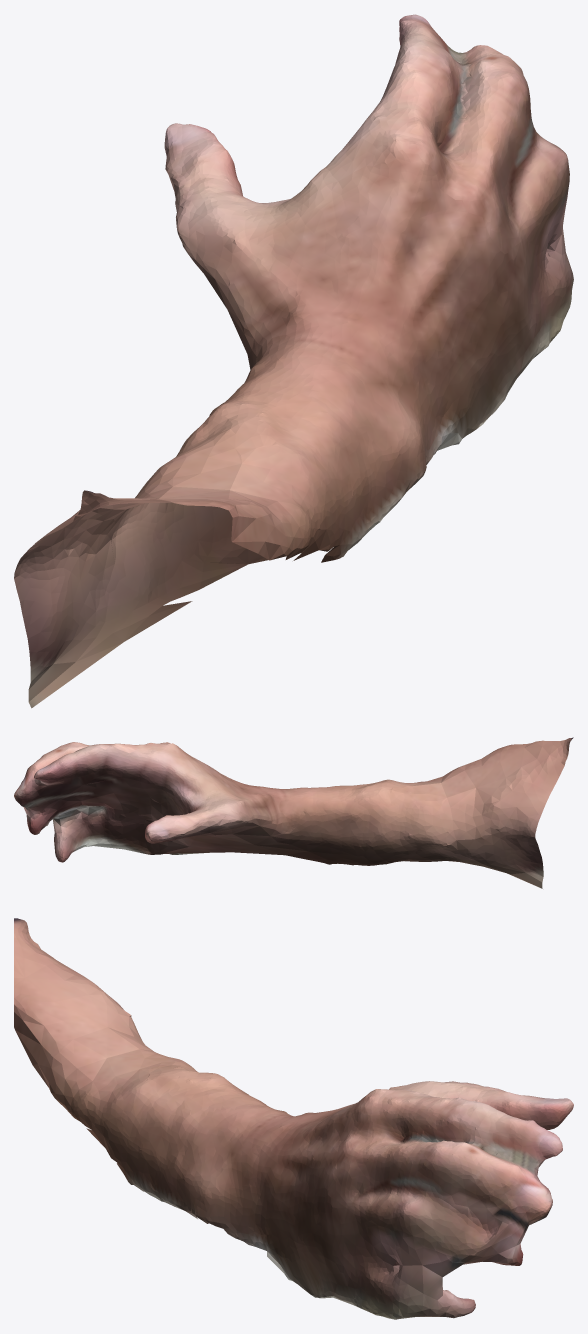
Rendered from Scaniverse_2024_08_06_163630.obj.
3 views of the same model, one above another, from view 1: azimuth 30°, elevation 25°; view 2: azimuth 150°, elevation 25°; view 3: azimuth 270°, elevation 25° (orthographic). The views are drawn at different scales.
Visible parts, largest first — view 1: mesh; view 2: mesh; view 3: mesh.
Part boxes in pixels (box(x1,y1,x2,y2)): mesh: box(14, 14, 573, 708); mesh: box(14, 737, 573, 888); mesh: box(14, 918, 573, 1319).
Size of the model in its own units: 0.2553 by 0.1012 by 0.2218.
Materials: 1 (1 with a texture image).
